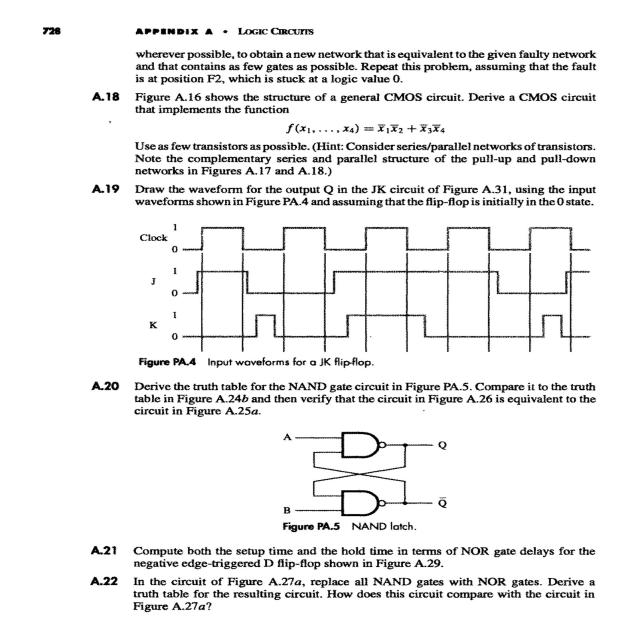diagram: (113, 219, 640, 366), (233, 424, 524, 536)
